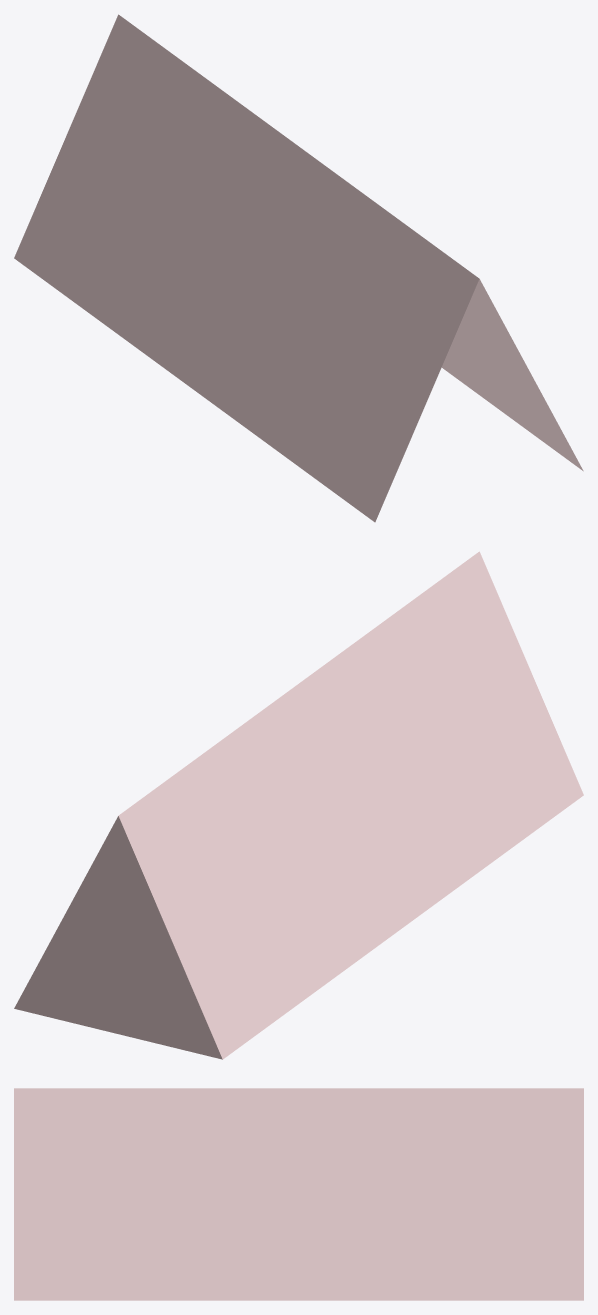
The picture shows the model from 3 angles, top to bottom: view 1: azimuth 30°, elevation 25°; view 2: azimuth 150°, elevation 25°; view 3: azimuth 270°, elevation 25°; orthographic projection. The views are drawn at different scales.
Visible parts, largest first — view 1: Object53; view 2: Object53; view 3: Object53.
Part boxes in pixels (<box>): Object53: <box>14,14,583,522</box>; Object53: <box>14,551,583,1059</box>; Object53: <box>14,1088,583,1300</box>.
Bounding box in the file's own units: 10000 × 10000 × 29960.
